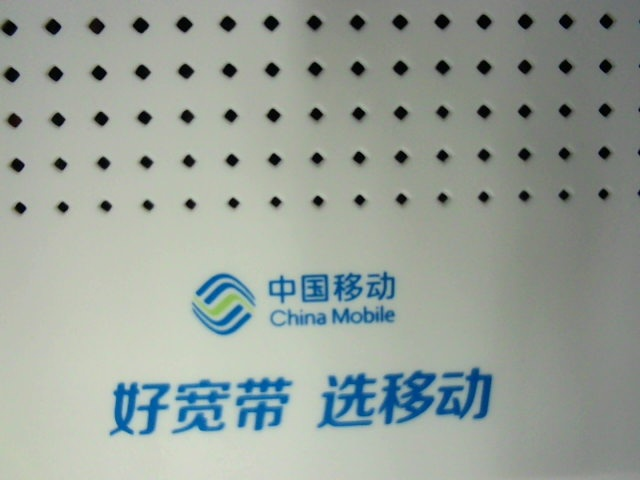AA_ChinaMoble: (89, 256, 496, 439)
